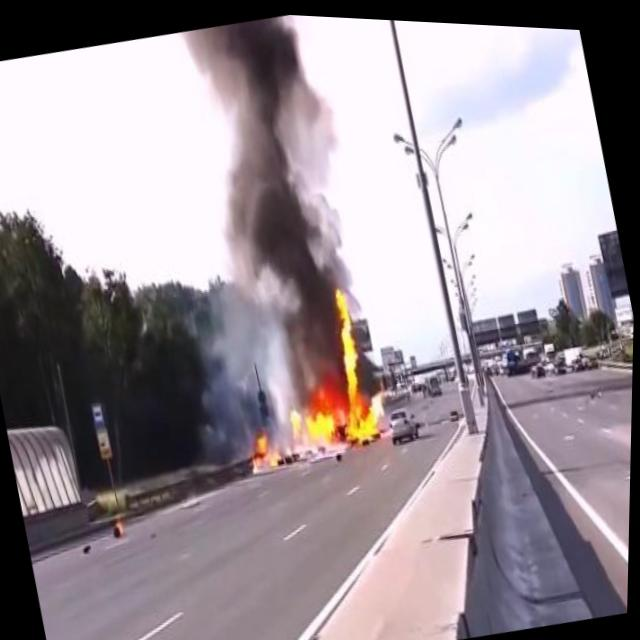fire: (260, 271, 400, 463), (246, 418, 290, 475)
